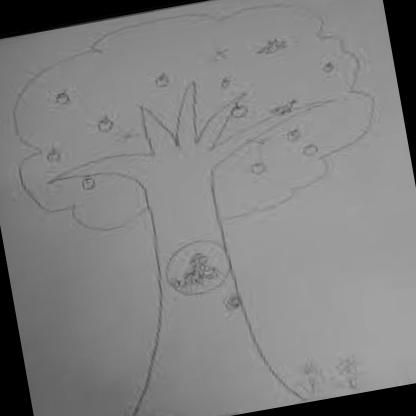apple: (90, 113, 118, 136), (42, 139, 66, 164), (151, 70, 173, 90), (52, 88, 73, 107), (230, 101, 251, 120), (78, 173, 98, 191), (318, 60, 338, 76)
bird: (254, 36, 290, 59)
branch_sharp: (28, 57, 340, 202)
crown_cloud: (0, 0, 389, 252)
knot: (216, 292, 243, 316)
trunk_straight: (123, 228, 270, 387)
